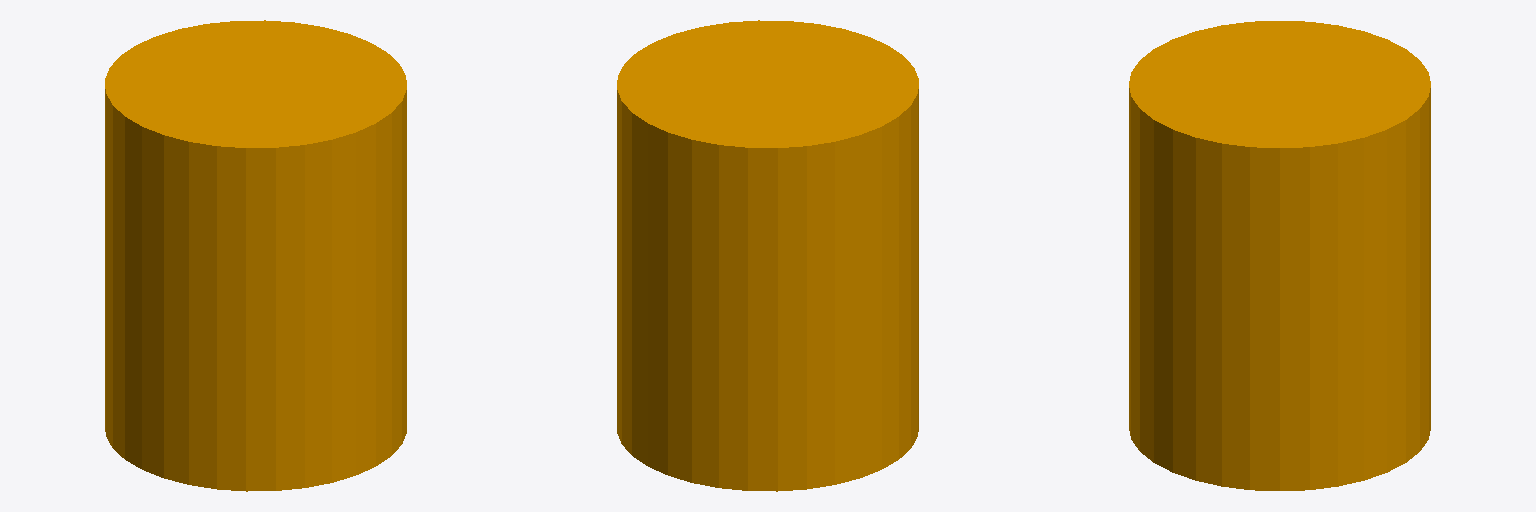
robot.urdf — Robot1:
<?xml version="1.0"?>
<robot name="Robot1">
  <link name="base_link">
    <visual>
      <geometry>
        <cylinder length="1" radius="0.4"/>
      </geometry>
    </visual>
    </link>
</robot>

--- What the picture shows (computed from the rendered views, not written in the file) ---
The picture shows the robot from 3 angles, left to right: view 1: azimuth 30°, elevation 25°; view 2: azimuth 150°, elevation 25°; view 3: azimuth 270°, elevation 25°; orthographic projection.
Robot: Robot1 — 1 links, 0 joints (none); root link base_link; default pose: all joints at 0.
Links seen in each view (by area): view 1: base_link; view 2: base_link; view 3: base_link.
Boxes of the visible links, x1,y1,x2,y2 form: base_link: (105,20,406,491); base_link: (617,20,918,491); base_link: (1129,21,1430,490).
Bounding box of the posed robot: 0.8 × 0.8 × 1 m (x, y, z).
Geometry: primitives only (box / cylinder / sphere), no mesh files.